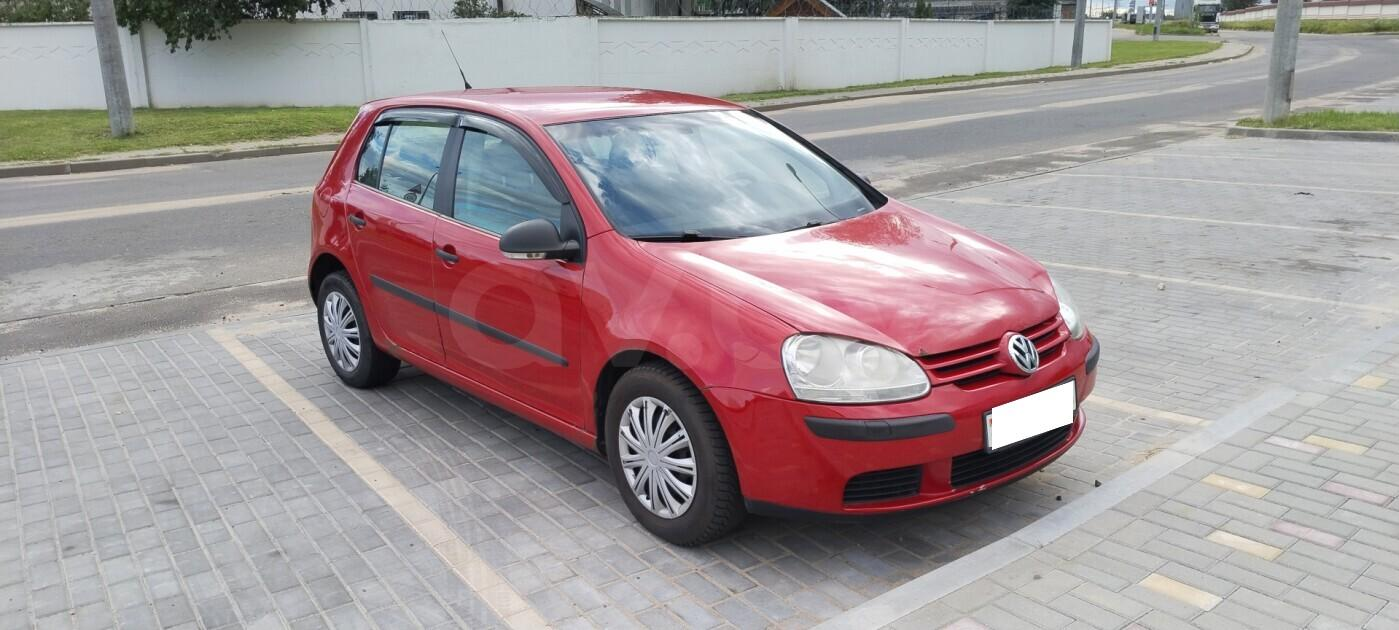Golf_2003-2009: (309, 78, 1115, 537)
